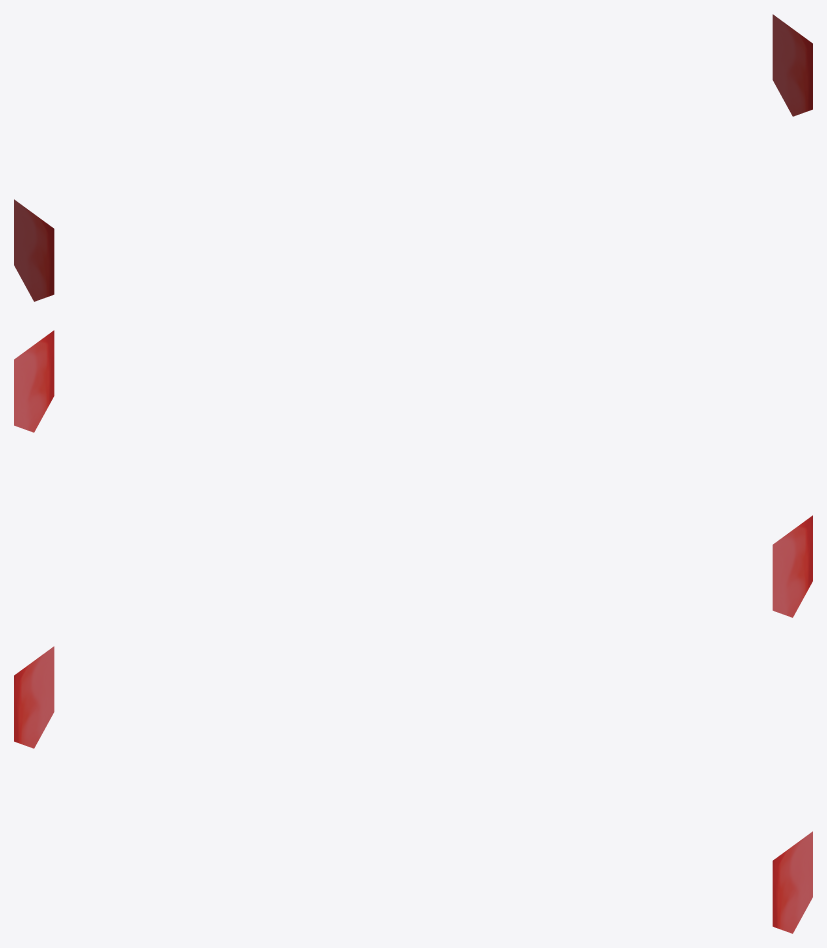
3 renders of one model, top to bottom at view 1: azimuth 30°, elevation 25°; view 2: azimuth 150°, elevation 25°; view 3: azimuth 330°, elevation 25°, orthographic.
Visible parts, largest first — view 1: Object017; view 2: Object017; view 3: Object017.
Part boxes in pixels (x1,y1,x2,y2): Object017: (14,14,812,301); Object017: (14,330,812,617); Object017: (14,646,812,933).
Bounding box in the file's own units: 681 × 75.41 × 62.62.
1 material, 1 textured.
